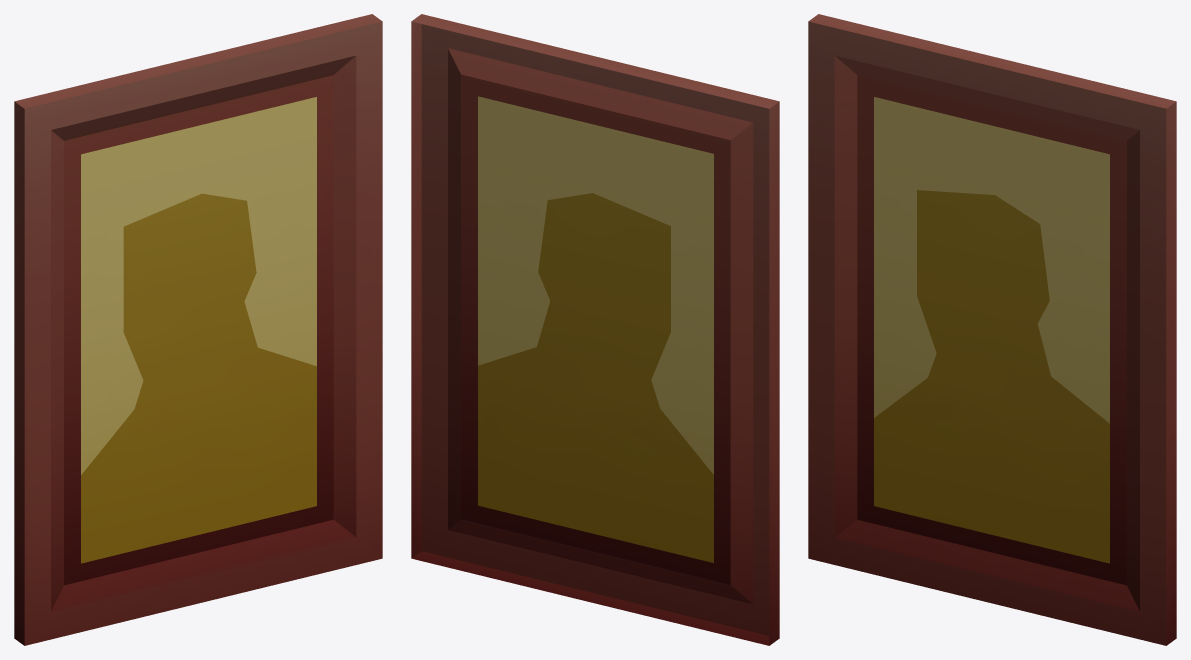
File: SM_Portrait_01.fbx
3 views of the same model, side by side, from view 1: azimuth 30°, elevation 25°; view 2: azimuth 150°, elevation 25°; view 3: azimuth 330°, elevation 25° (orthographic).
Parts seen in each view (by area): view 1: SM_Portrait_01; view 2: SM_Portrait_01; view 3: SM_Portrait_01.
Part boxes in pixels (x1,y1,x2,y2): SM_Portrait_01: (14, 14, 382, 645); SM_Portrait_01: (411, 14, 779, 645); SM_Portrait_01: (808, 14, 1176, 645).
Size of the model in its own units: 0.6771 by 0.9704 by 0.0335.
